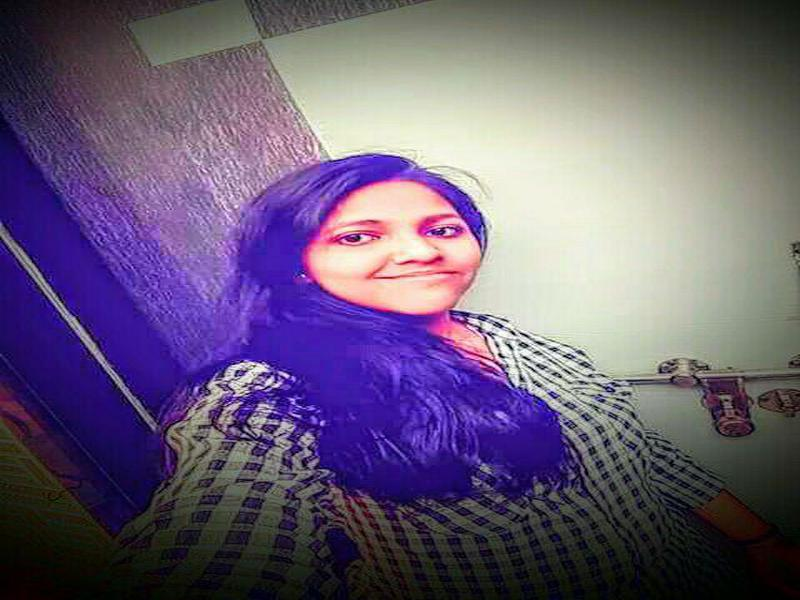without_mask: (302, 193, 478, 319)
